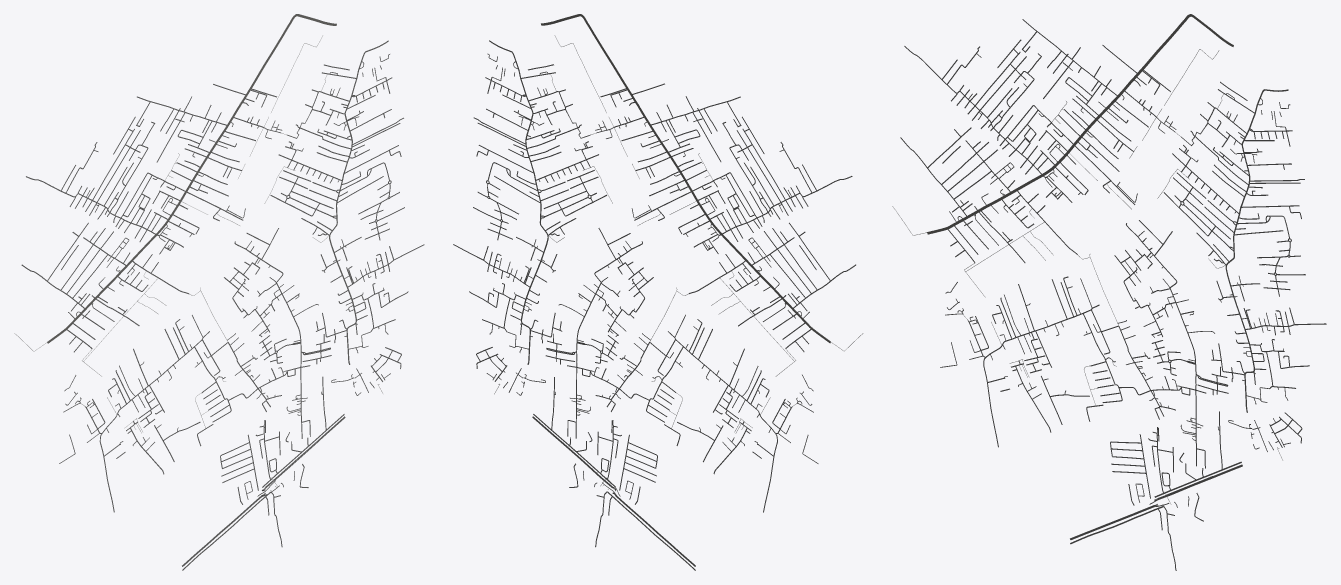
Rendered from roads_0_4.obj.
3 renders of one model, left to right at view 1: azimuth 30°, elevation 25°; view 2: azimuth 150°, elevation 25°; view 3: azimuth 330°, elevation 25°, orthographic. The views are drawn at different scales.
Size of the model in its own units: 2603 by 3212 by 26.05.
6 materials, 6 textured.
